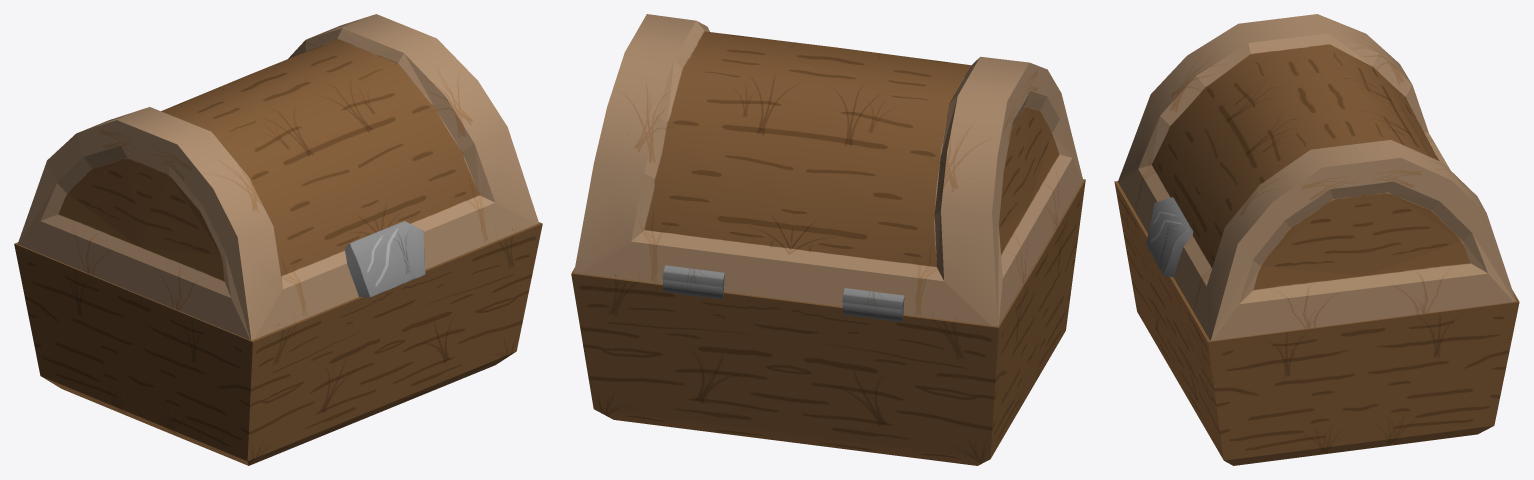
The model's file is obj_chest.fbx.
3 views of the same model, side by side, from view 1: azimuth 30°, elevation 25°; view 2: azimuth 150°, elevation 25°; view 3: azimuth 270°, elevation 25° (orthographic). The views are drawn at different scales.
Parts seen in each view (by area): view 1: geo_chestTop, geo_chestBottom; view 2: geo_chestTop, geo_chestBottom; view 3: geo_chestTop, geo_chestBottom.
Boxes of the visible parts, left/top/right/bottom form: geo_chestTop: left=18, top=14, right=538, bottom=340; geo_chestBottom: left=14, top=222, right=542, bottom=465; geo_chestTop: left=574, top=14, right=1083, bottom=326; geo_chestBottom: left=571, top=179, right=1085, bottom=465; geo_chestTop: left=1118, top=14, right=1515, bottom=340; geo_chestBottom: left=1114, top=181, right=1519, bottom=465.
Size of the model in its own units: 0.6488 by 0.4424 by 0.5543.
Materials: 1 (1 with a texture image).
